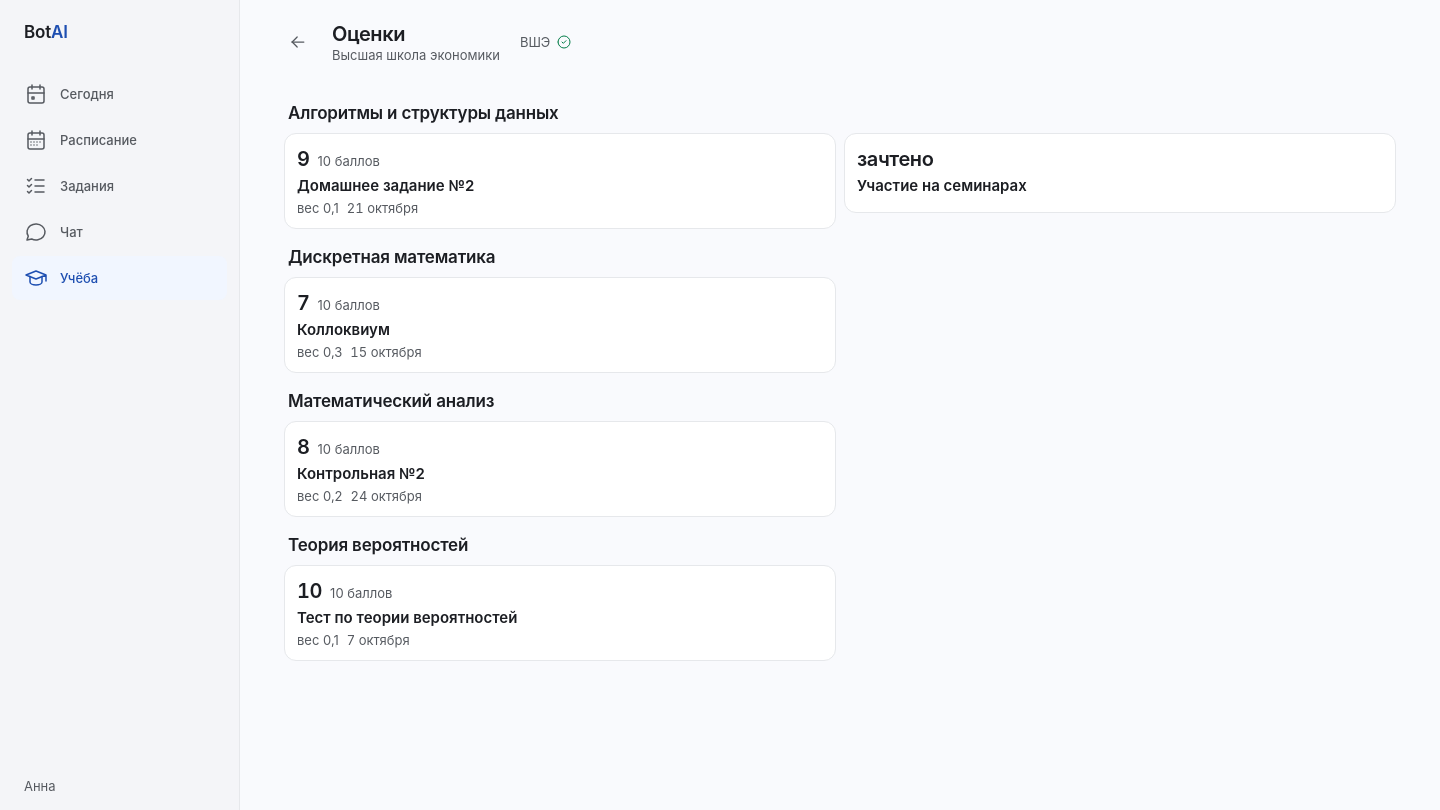
it: «Учёба»: экраны разделов › «Оценки»: плитки по предметам, значения как у источника, без пересчёта и процентов
Check: the text "8" is shown, box [297,434,310,460]
Check: the text "10 баллов" below "Математический анализ" is shown, box [318,441,380,457]
Click the button "8 10 баллов Контрольная №2 вес 0,2 24 октября".
click(349, 449)  # box [284,421,836,517]
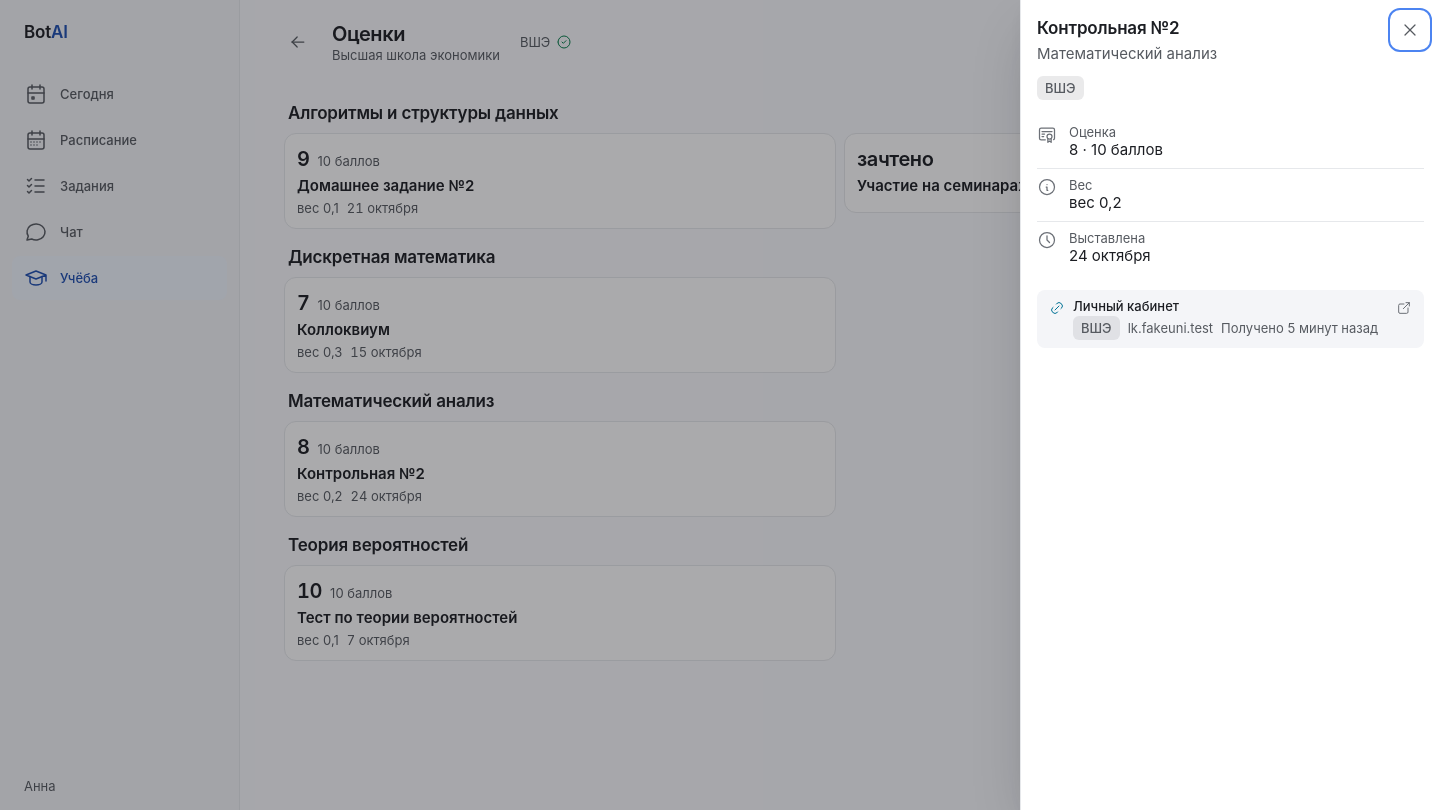
Check: the text "Вес" is shown, box [1069,177,1092,193]
